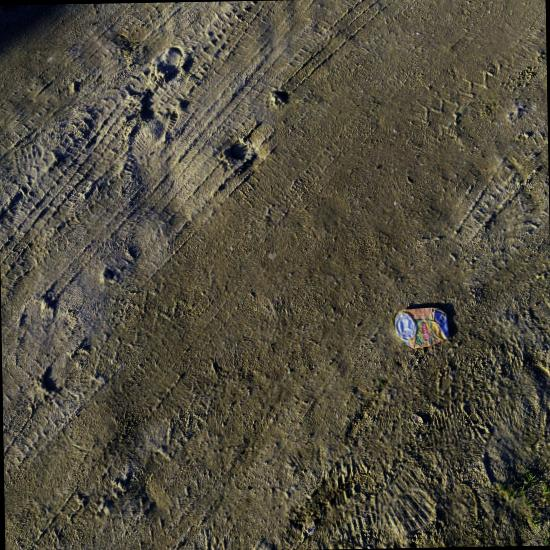Drink can: (394, 307, 449, 349)
Pop tab: (437, 313, 447, 325)
